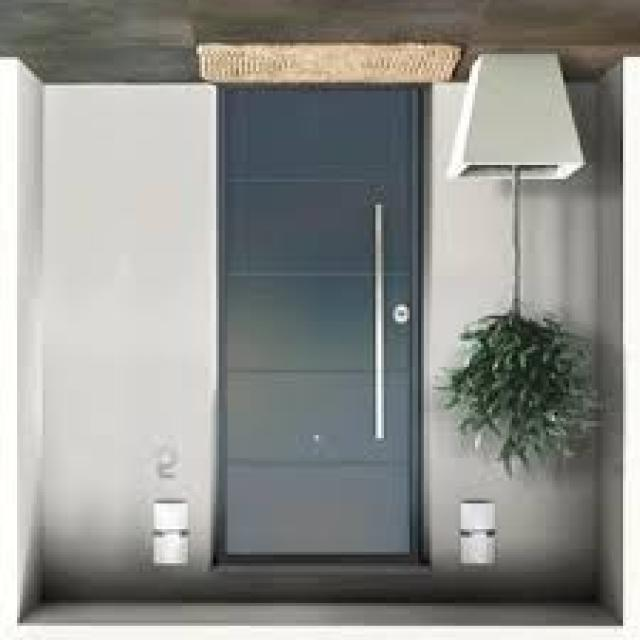door: (215, 85, 425, 566)
